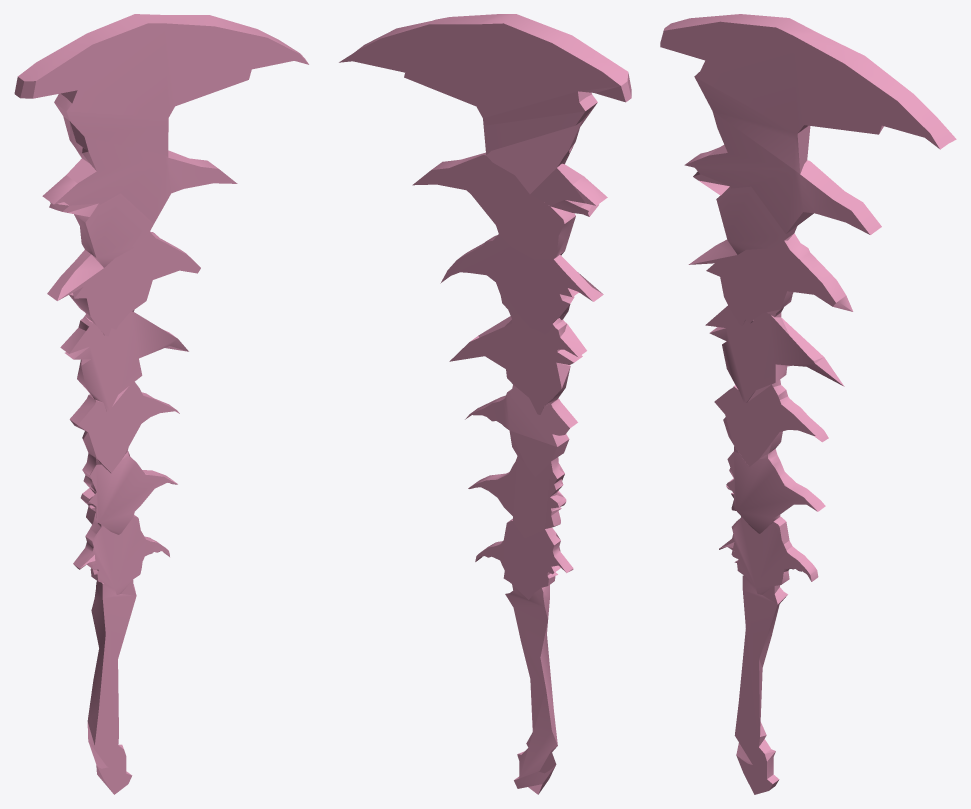
The model's file is SpaceweaponmeatswordBO_Correctone.fbx.
3 renders of one model, left to right at view 1: azimuth 30°, elevation 25°; view 2: azimuth 150°, elevation 25°; view 3: azimuth 330°, elevation 25°, orthographic.
Visible parts, largest first — view 1: Cube.001; view 2: Cube.001; view 3: Cube.001.
Part boxes in pixels (bbox=[...]): Cube.001: bbox=[14, 14, 308, 794]; Cube.001: bbox=[339, 14, 631, 794]; Cube.001: bbox=[660, 14, 956, 794].
Size of the model in its own units: 178 by 456 by 14.16.
